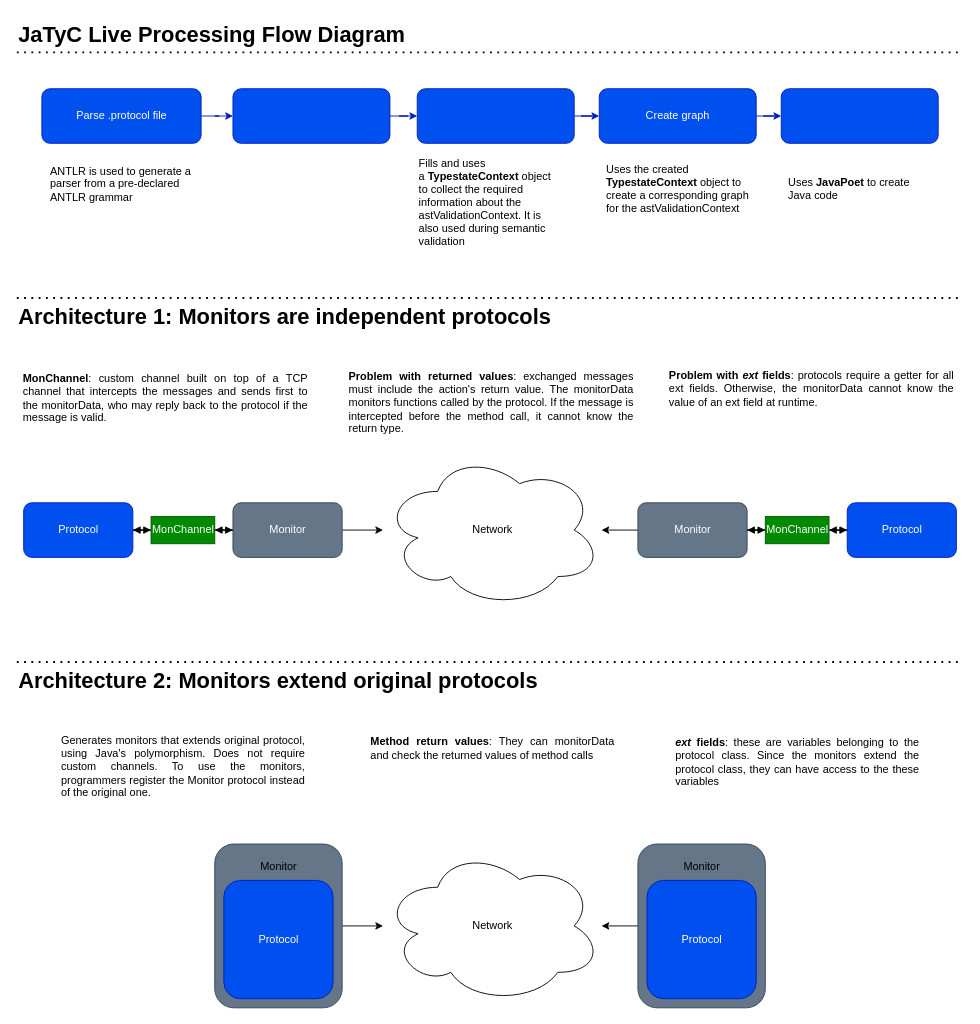
The diagram is 980 pixels wide and 1024 high, and some of its shapes have lost their labels. Each missing label, with the centre of its shape:
Create Ast: the point at 311,115
Generate monitorData classes: the point at 859,115
Semantic validation with the created Ast: the point at 495,115
